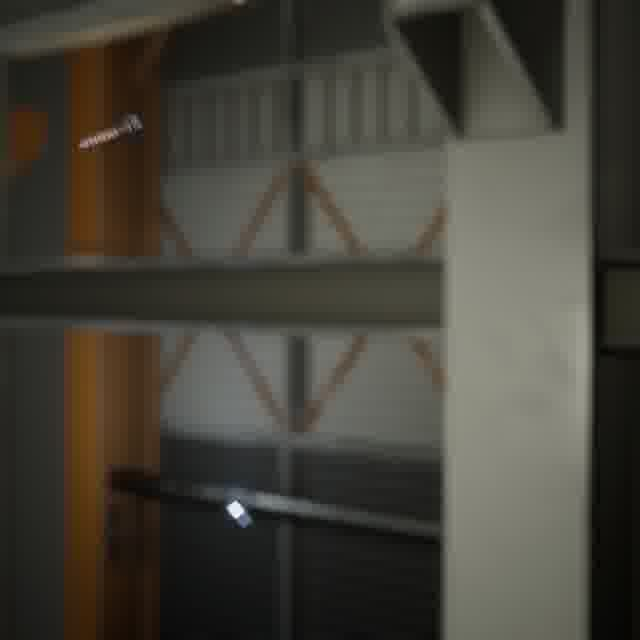bolt: (74, 109, 147, 156)
nut: (221, 493, 257, 532)
